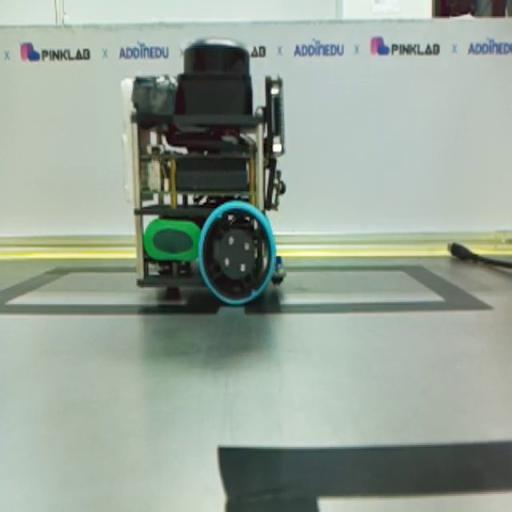pinky_63: (121, 36, 286, 306)
